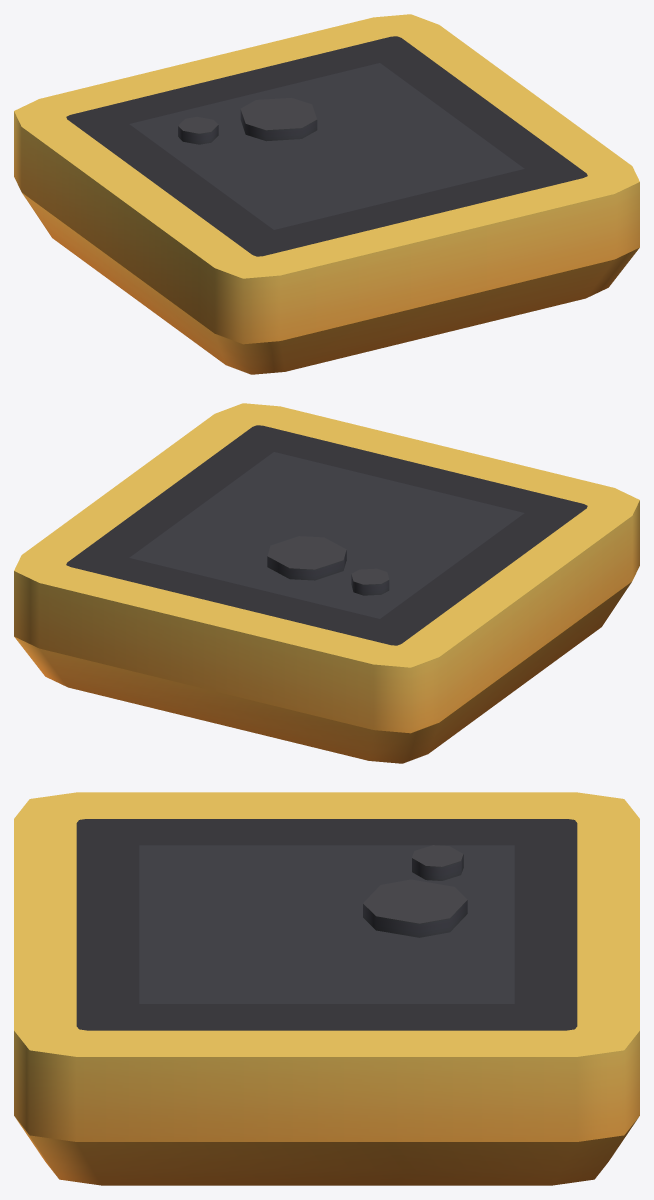
The model's file is platform.glb.
3 renders of one model, top to bottom at view 1: azimuth 30°, elevation 25°; view 2: azimuth 150°, elevation 25°; view 3: azimuth 270°, elevation 25°, orthographic. The views are drawn at different scales.
Visible parts, largest first — view 1: platform; view 2: platform; view 3: platform.
Boxes of the visible parts, x1,y1,x2,y2 form: platform: (14,14,639,374); platform: (14,403,639,763); platform: (14,792,639,1185).
Size of the model in its own units: 2 by 0.5501 by 2.
1 material, 1 textured.
